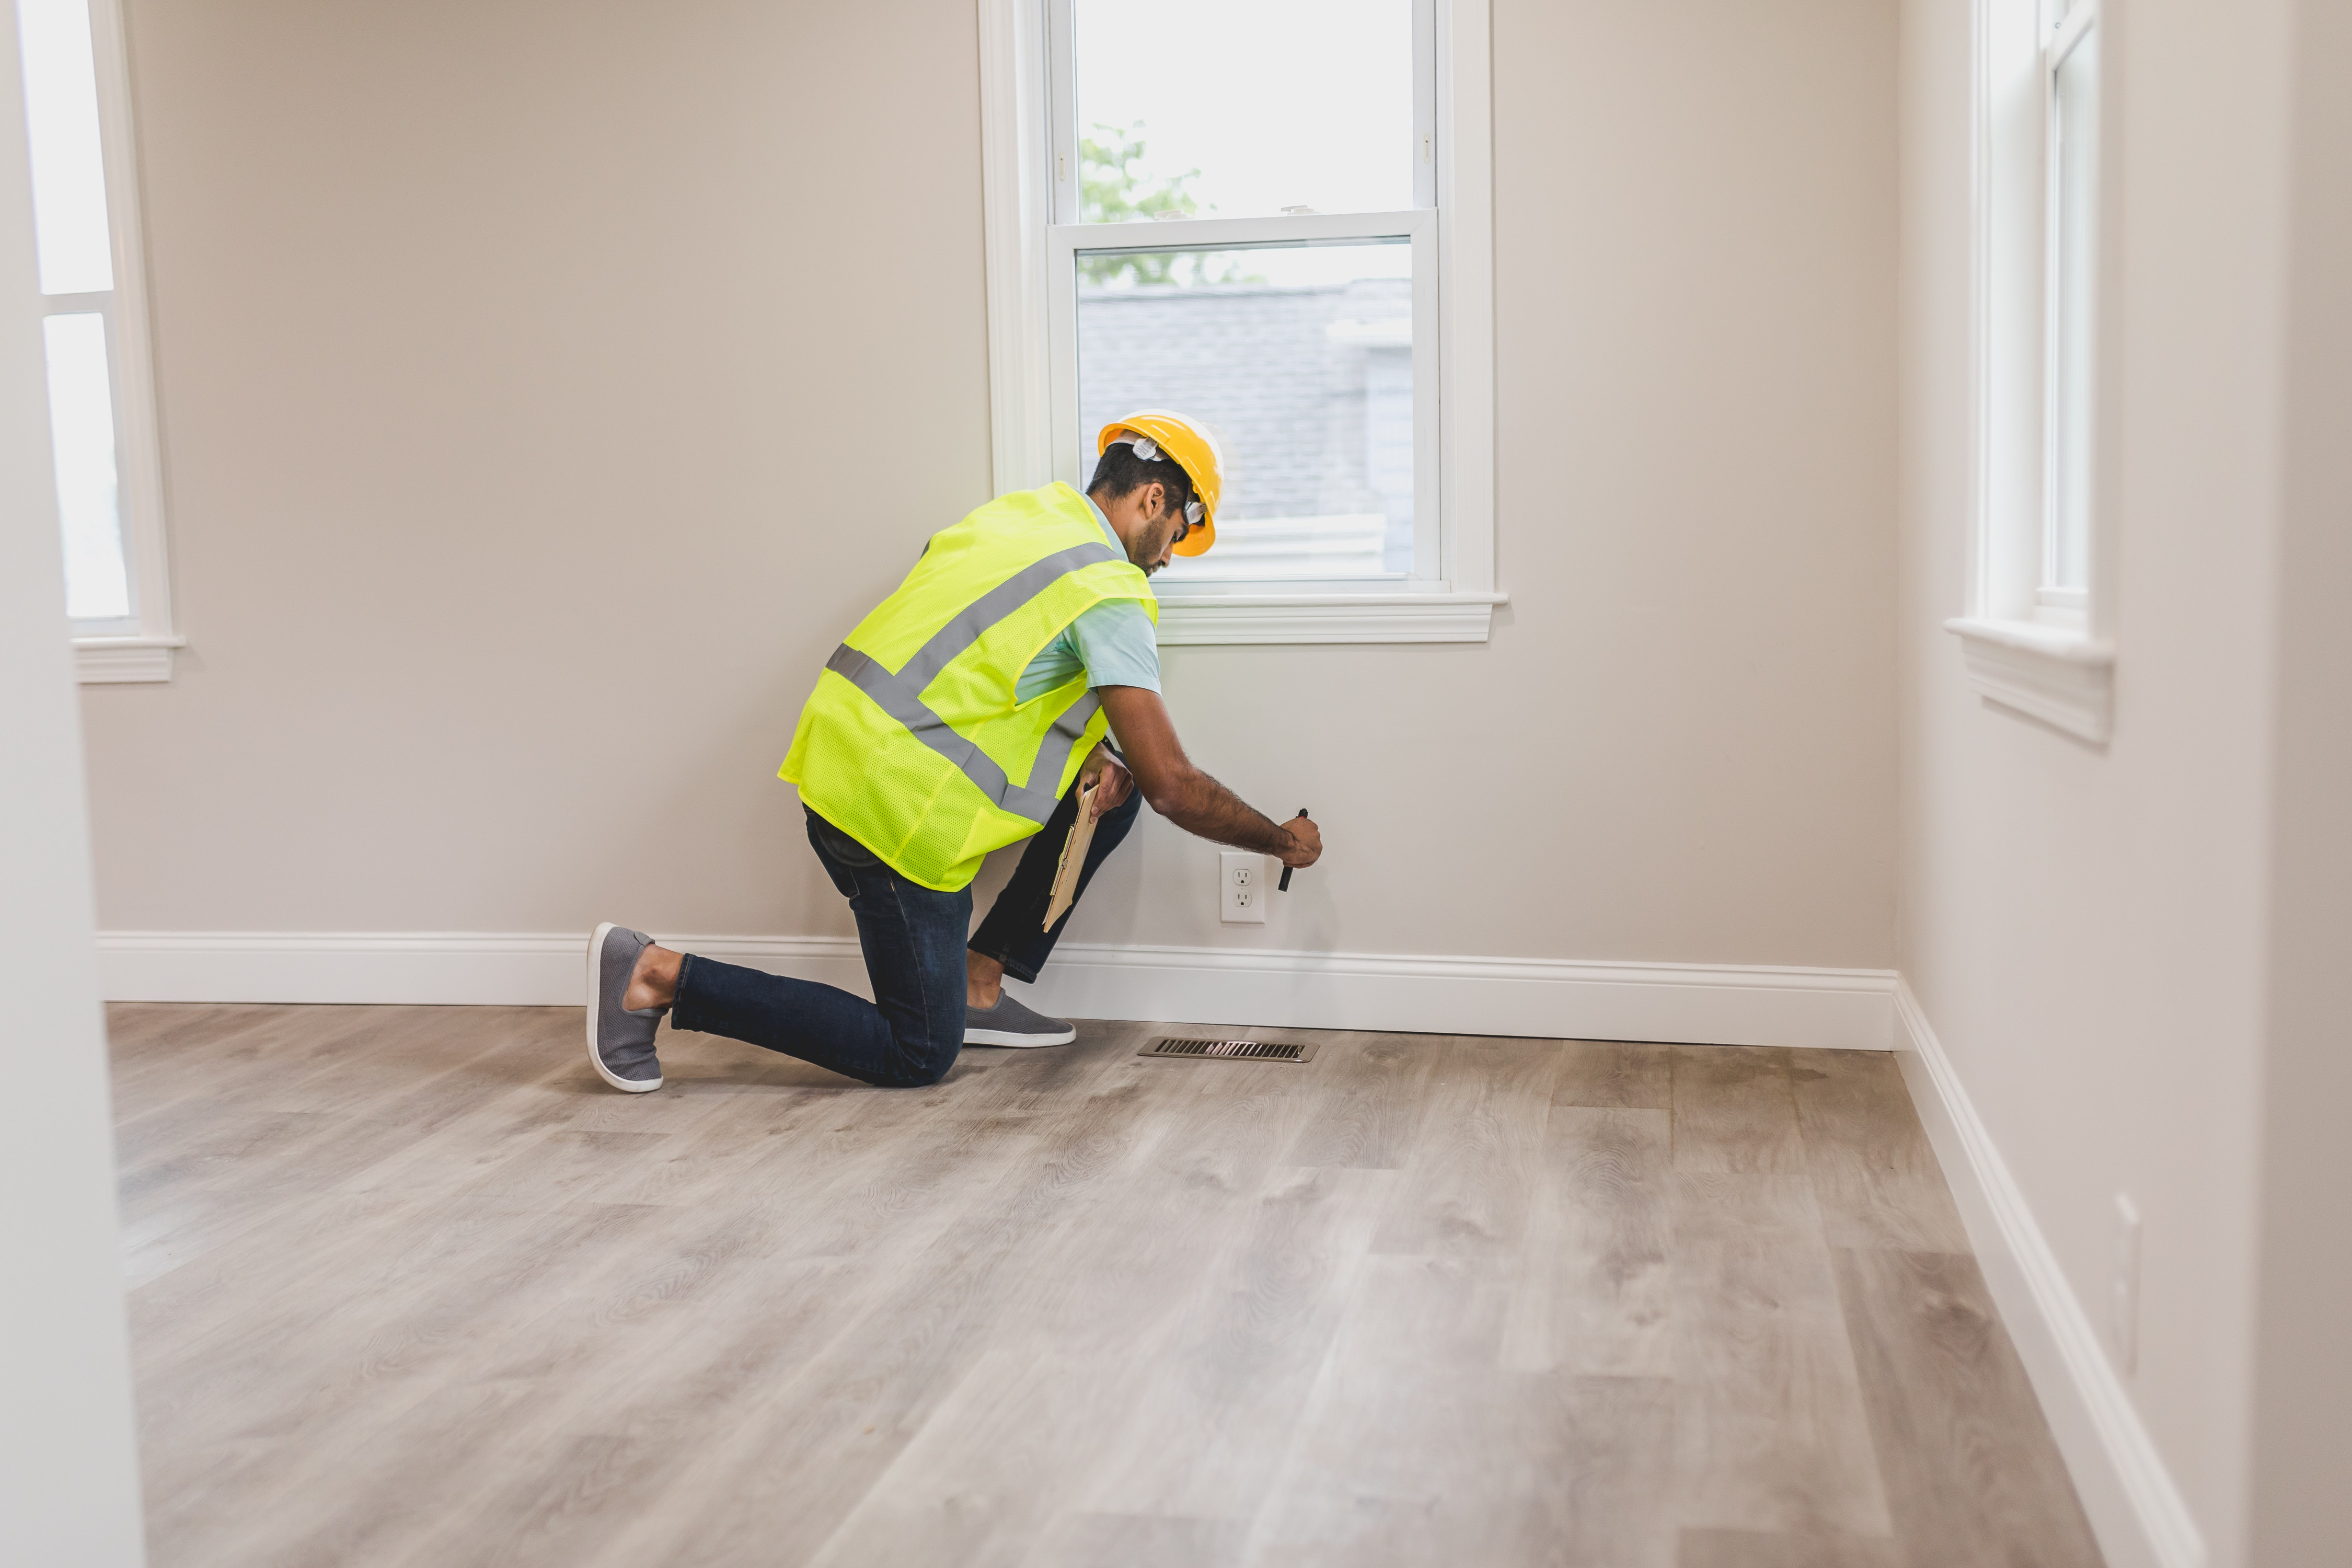Helmet: (1088, 397, 1232, 569)
Reflective vest: (766, 474, 1165, 894)
